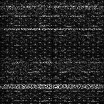lte: (1, 83, 104, 89), (1, 27, 104, 31)
